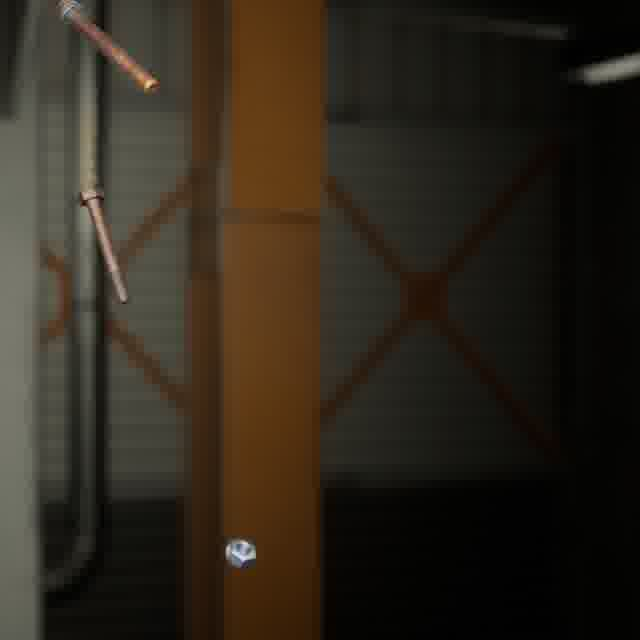bolt: (49, 0, 163, 98), (72, 183, 134, 308)
nut: (221, 534, 260, 572)
